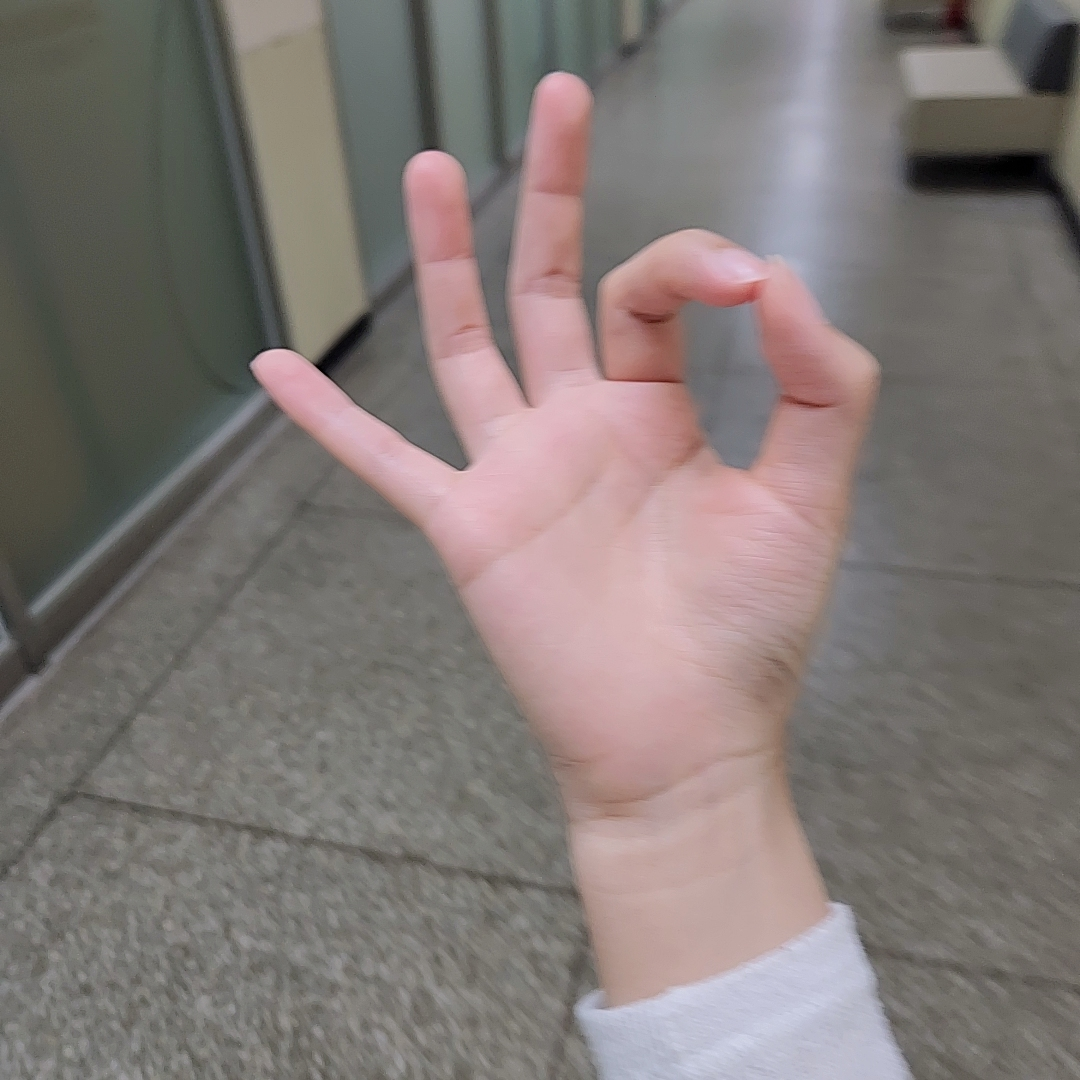see: (240, 71, 885, 746)
